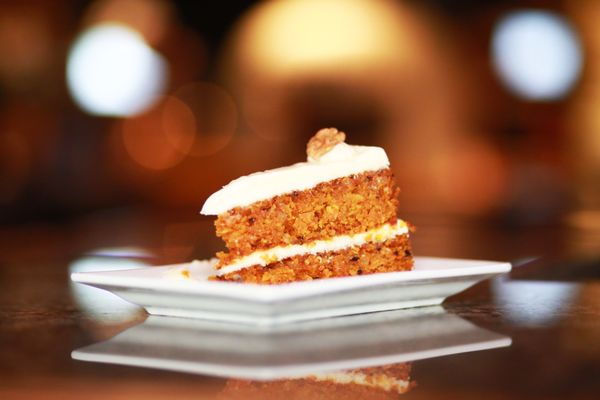sushi: (203, 127, 417, 285)
